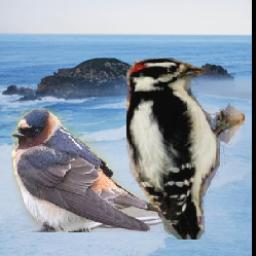Swallow: (11, 109, 163, 233)
Woodpecker: (125, 59, 244, 241)
